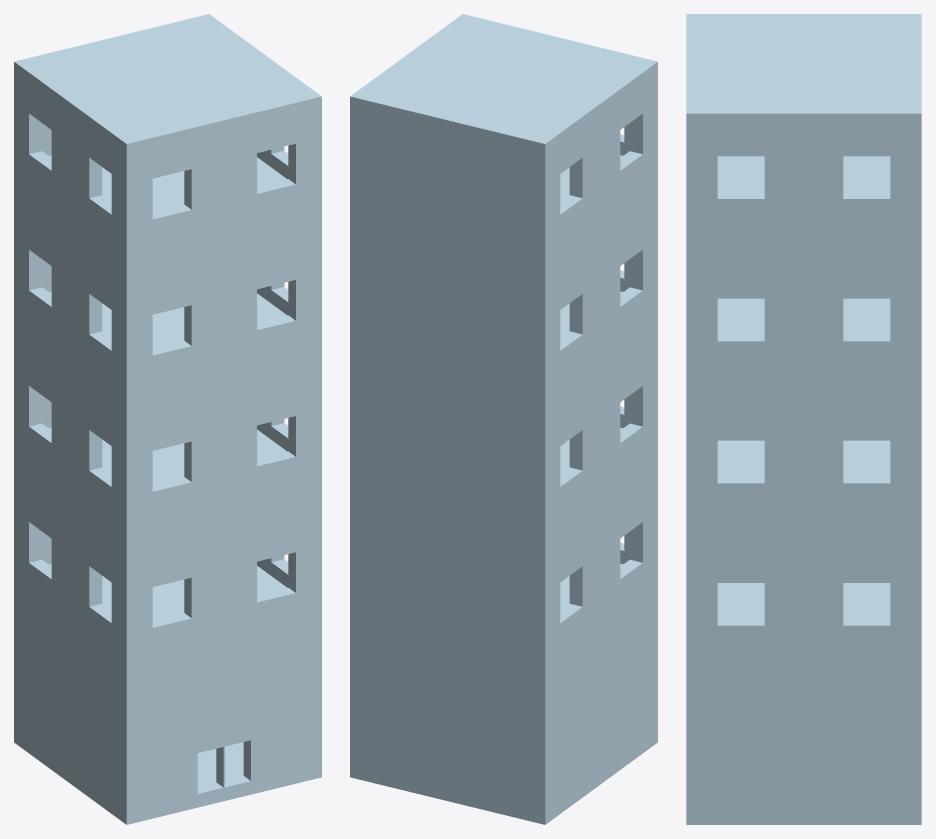
The model's file is CapStoneBuilding.fbx.
The picture shows the model from 3 angles, left to right: view 1: azimuth 30°, elevation 25°; view 2: azimuth 150°, elevation 25°; view 3: azimuth 270°, elevation 25°; orthographic projection. The views are drawn at different scales.
Parts seen in each view (by area): view 1: mesh125, mesh30, mesh32, mesh2, mesh60, mesh64, mesh68, mesh133; view 2: mesh31, mesh30, mesh32; view 3: mesh97, mesh32, mesh2, mesh60, mesh64, mesh68.
Part boxes in pixels (x1=…): mesh125: x1=126, y1=96, x2=321, y2=824; mesh30: x1=14, y1=62, x2=126, y2=824; mesh32: x1=14, y1=14, x2=321, y2=143; mesh2: x1=49, y1=155, x2=286, y2=211; mesh60: x1=49, y1=291, x2=286, y2=347; mesh64: x1=49, y1=427, x2=286, y2=484; mesh68: x1=49, y1=563, x2=286, y2=620; mesh133: x1=197, y1=742, x2=250, y2=793; mesh31: x1=350, y1=96, x2=545, y2=824; mesh30: x1=545, y1=62, x2=657, y2=824; mesh32: x1=350, y1=14, x2=657, y2=143; mesh97: x1=686, y1=113, x2=921, y2=824; mesh32: x1=686, y1=14, x2=921, y2=113; mesh2: x1=717, y1=156, x2=890, y2=192; mesh60: x1=717, y1=298, x2=890, y2=334; mesh64: x1=717, y1=440, x2=890, y2=476; mesh68: x1=717, y1=583, x2=890, y2=618.
Bounding box in the file's own units: 150 × 500 × 150.
